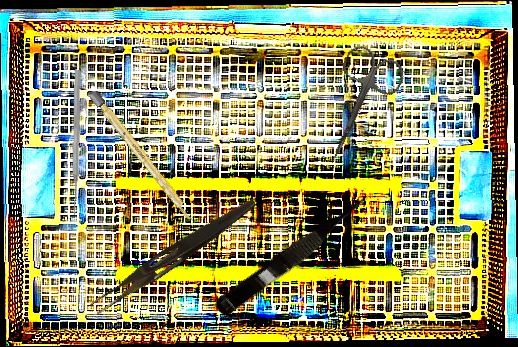Dressing Forceps: (89, 189, 259, 322)
Iris Scissors: (304, 41, 409, 174)
Micro Scissor: (212, 186, 381, 322)
Pusher: (70, 69, 82, 216)
Scalpel Handle: (88, 90, 197, 224)
